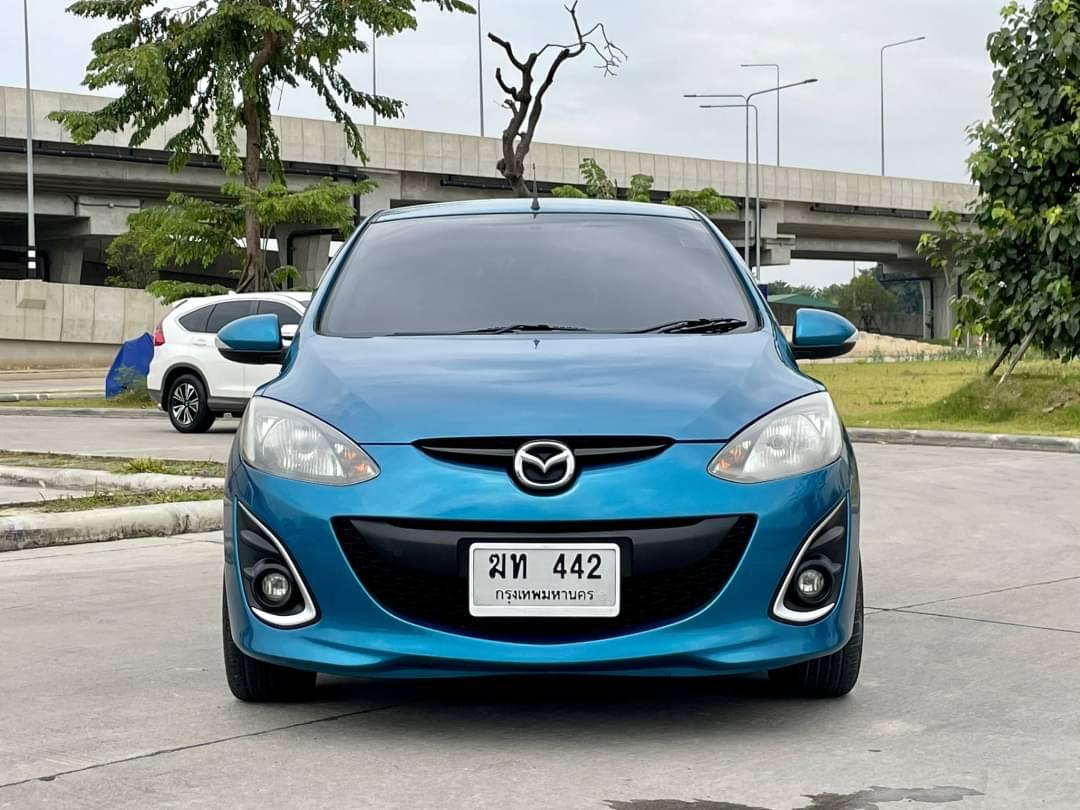license-plate: (454, 533, 634, 632)
